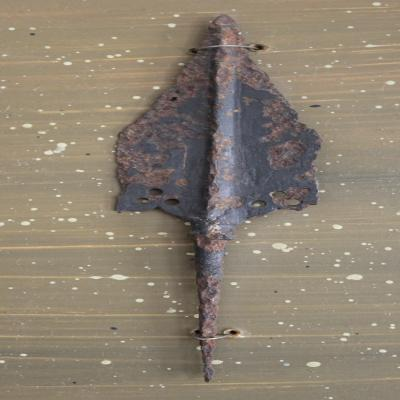archeology: (114, 13, 321, 383)
